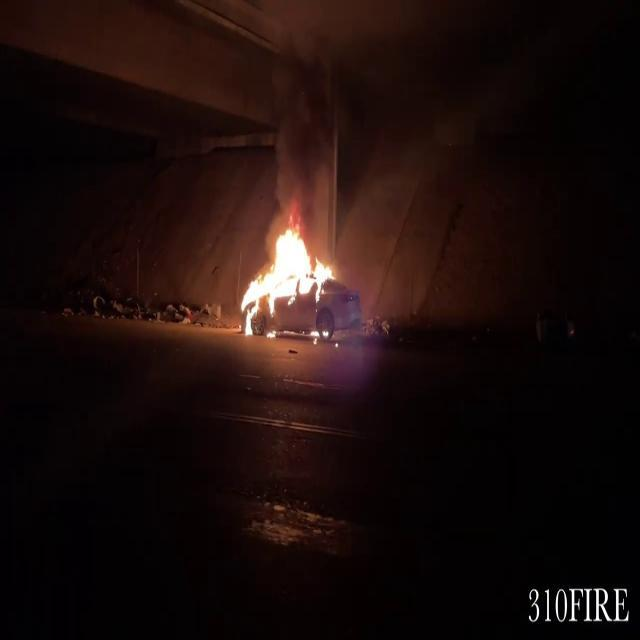Fire: (232, 212, 342, 336)
Smoke: (268, 71, 342, 224)
